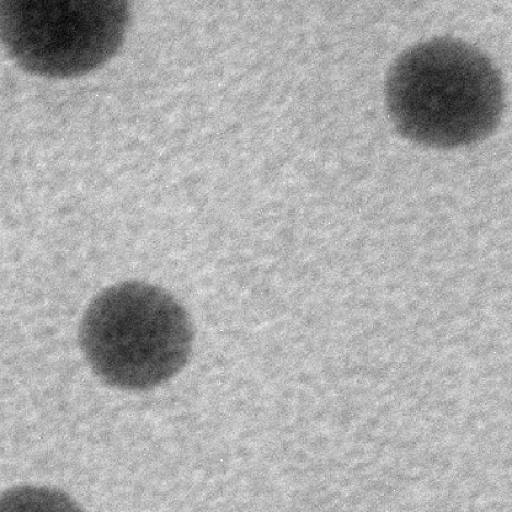Nanoparticles: (76, 277, 198, 391), (384, 35, 506, 148), (3, 1, 129, 77), (2, 483, 86, 511)
